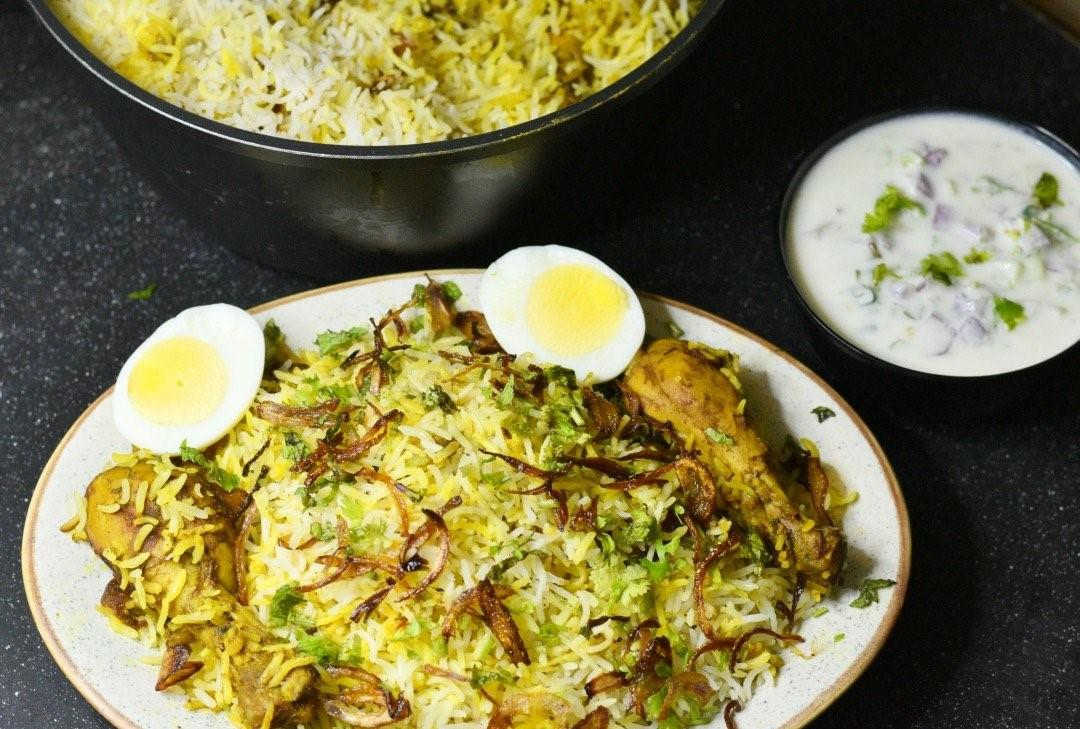Biryani: (68, 239, 852, 729)
